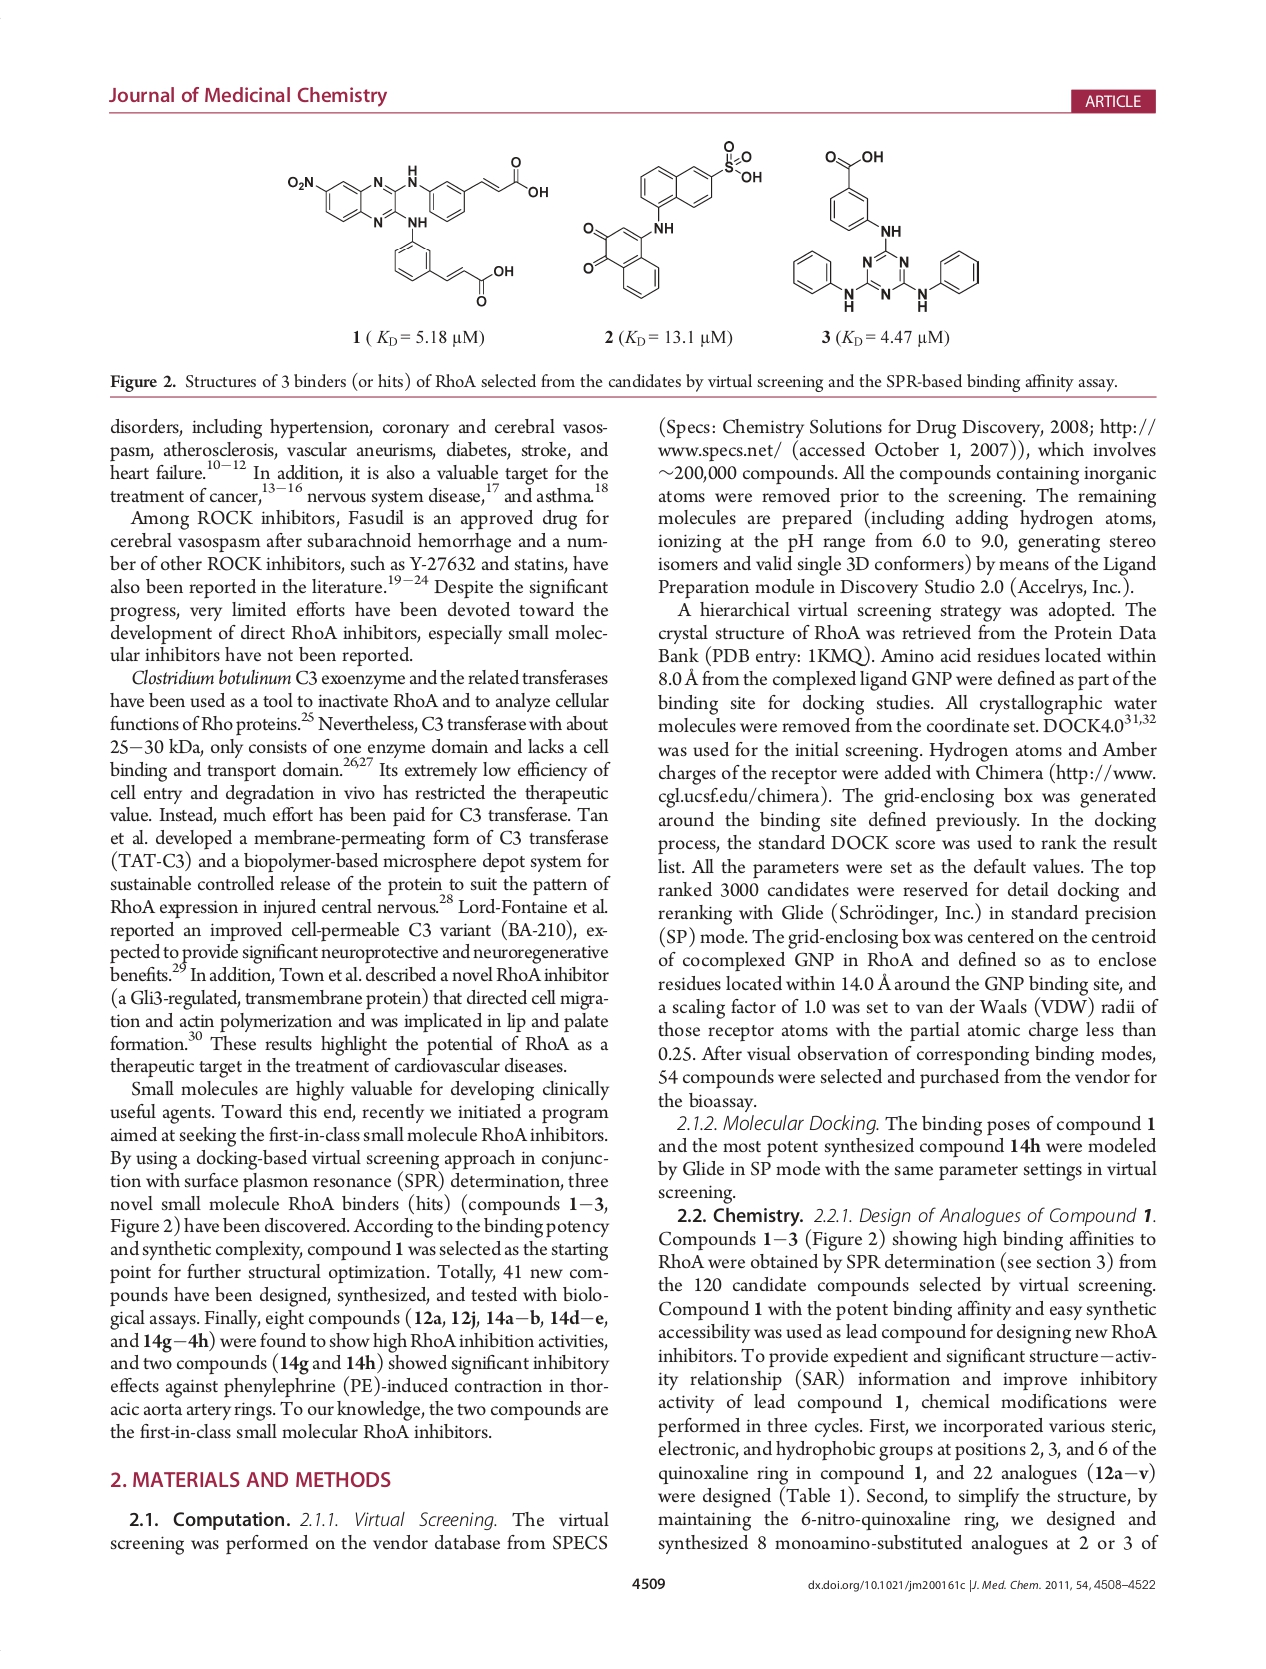exist_molecular: (281, 152, 551, 310), (786, 145, 983, 318), (582, 137, 766, 305)
